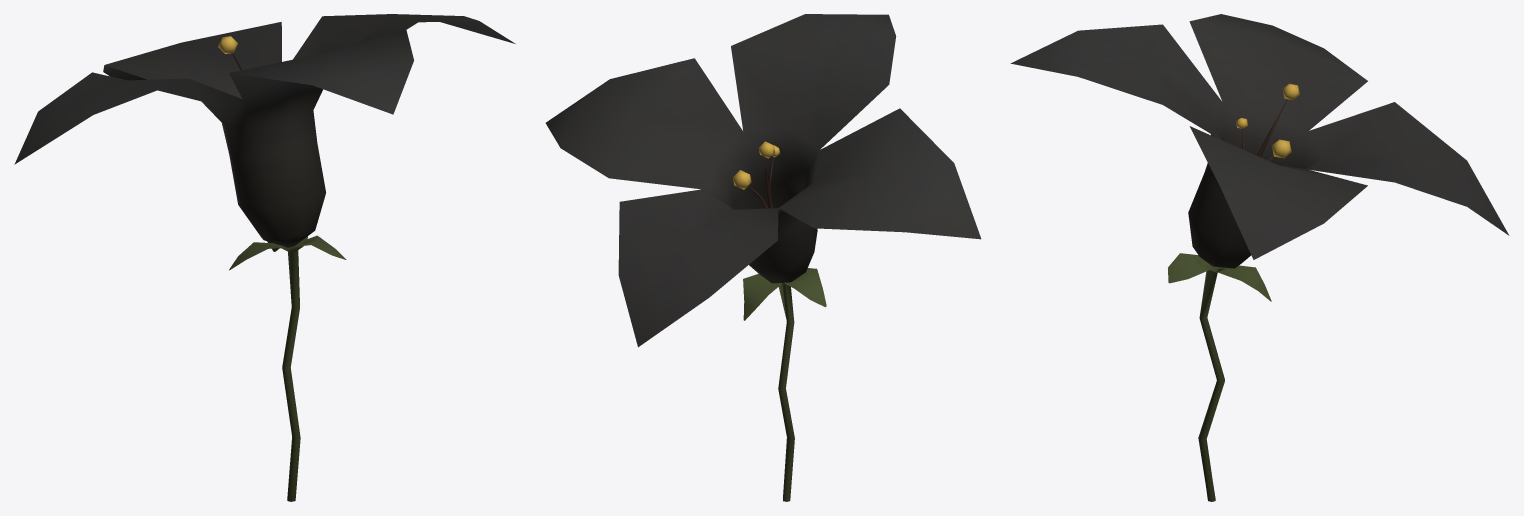
The model's file is environment_flower_a.fbx.
3 views of the same model, side by side, from view 1: azimuth 30°, elevation 25°; view 2: azimuth 150°, elevation 25°; view 3: azimuth 270°, elevation 25° (orthographic). The views are drawn at different scales.
Parts seen in each view (by area): view 1: pCylinder8; view 2: pCylinder8; view 3: pCylinder8.
Part boxes in pixels (x1,y1,x2,y2): pCylinder8: (14, 14, 515, 501); pCylinder8: (545, 14, 981, 501); pCylinder8: (1010, 14, 1509, 501).
Bounding box in the file's own units: 481 × 449 × 451.
